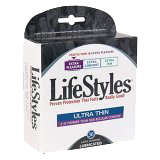grozi_91: (22, 5, 138, 154)
